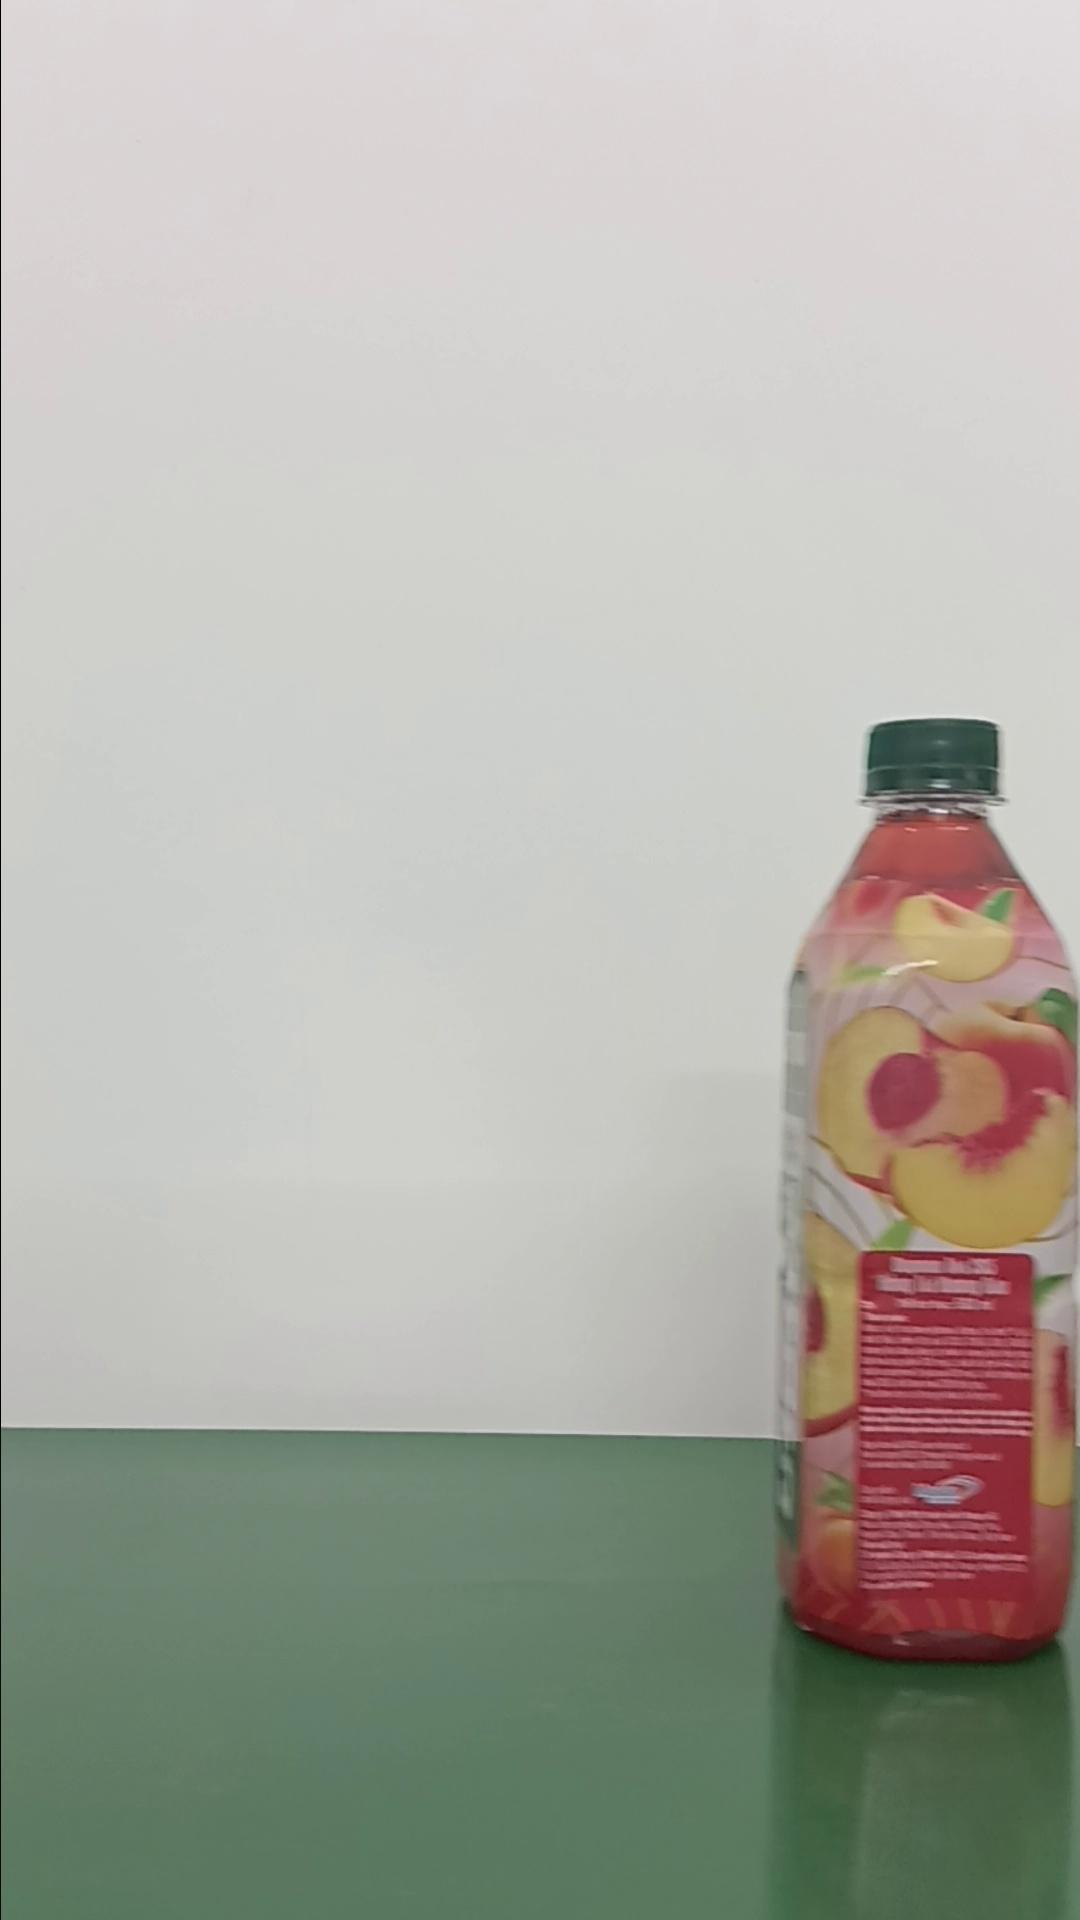khong loi: (767, 713, 1076, 1663)
